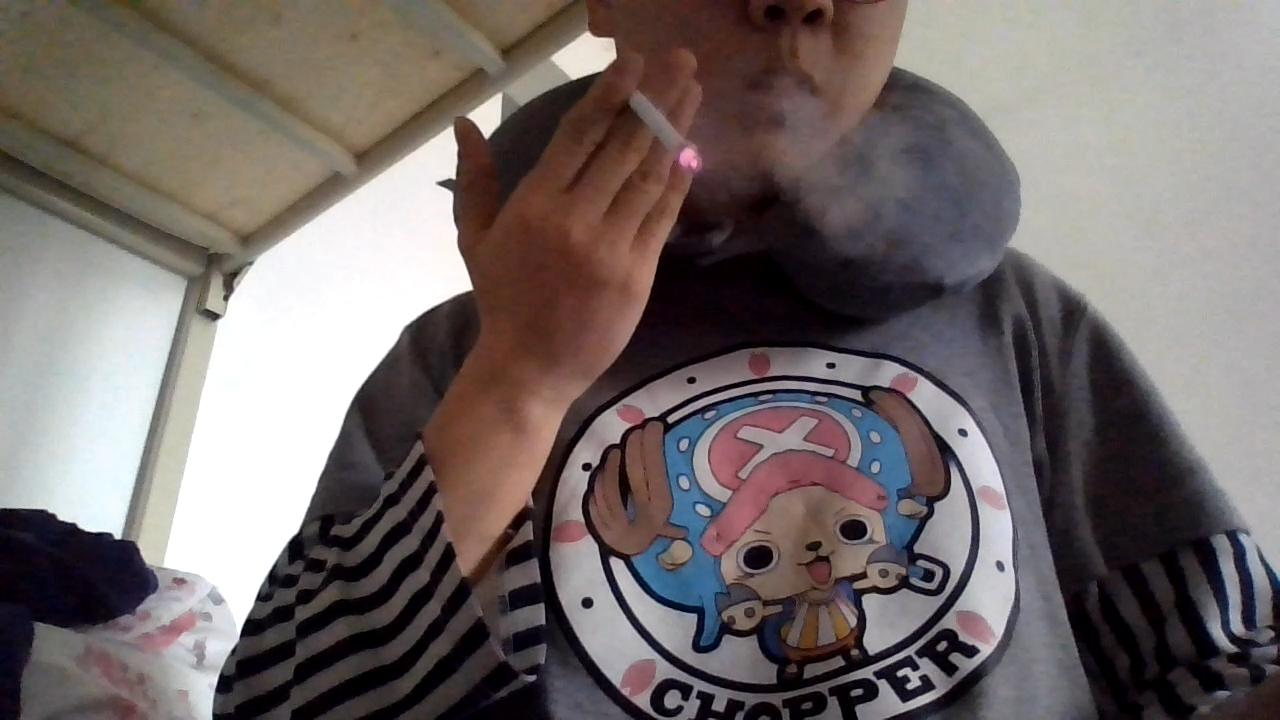yanwu: (742, 99, 906, 213)
